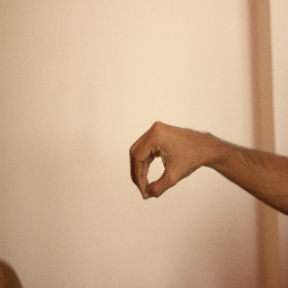O: (125, 118, 207, 201)
